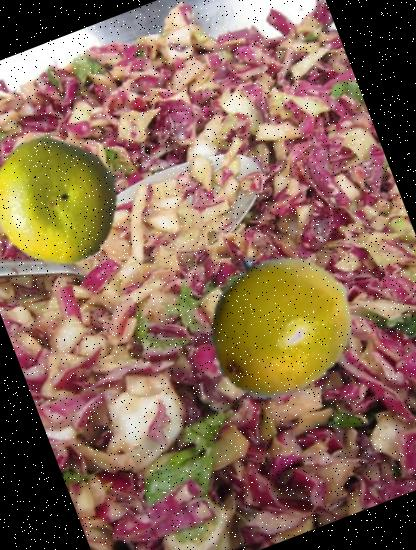Maracuja: (180, 224, 374, 419)
Pomelo: (0, 114, 141, 286)
